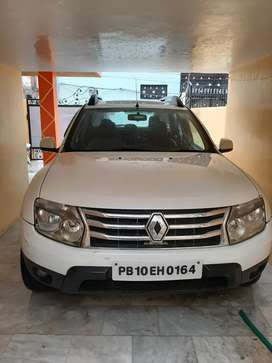PB10EH0164: (111, 261, 202, 280)
